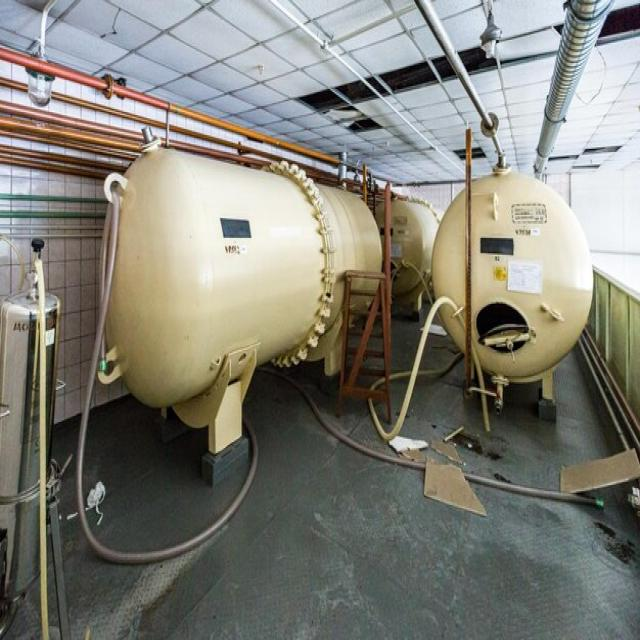compressor: (94, 122, 382, 483), (429, 157, 593, 420), (532, 0, 616, 175), (370, 193, 442, 320)
